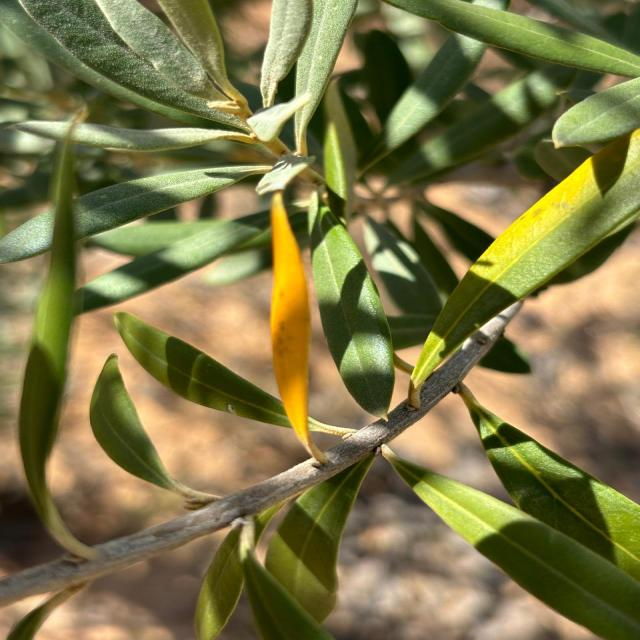Peacock Eye: (269, 190, 325, 464)
